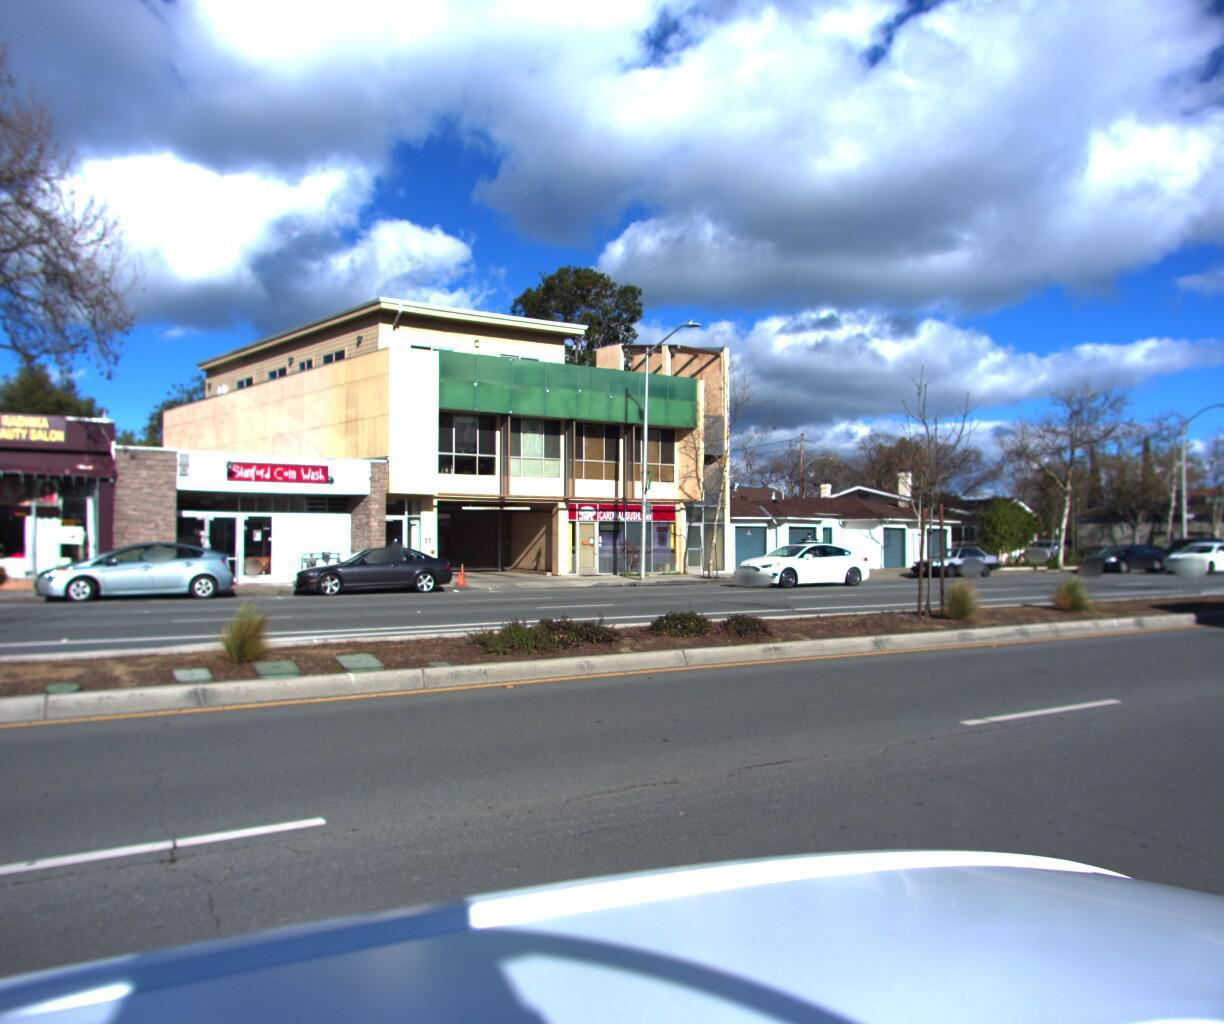car: (27, 544, 240, 612), (287, 550, 458, 605), (724, 537, 874, 592), (900, 546, 998, 581), (1068, 541, 1165, 574), (1149, 542, 1224, 575), (1009, 537, 1064, 564)
